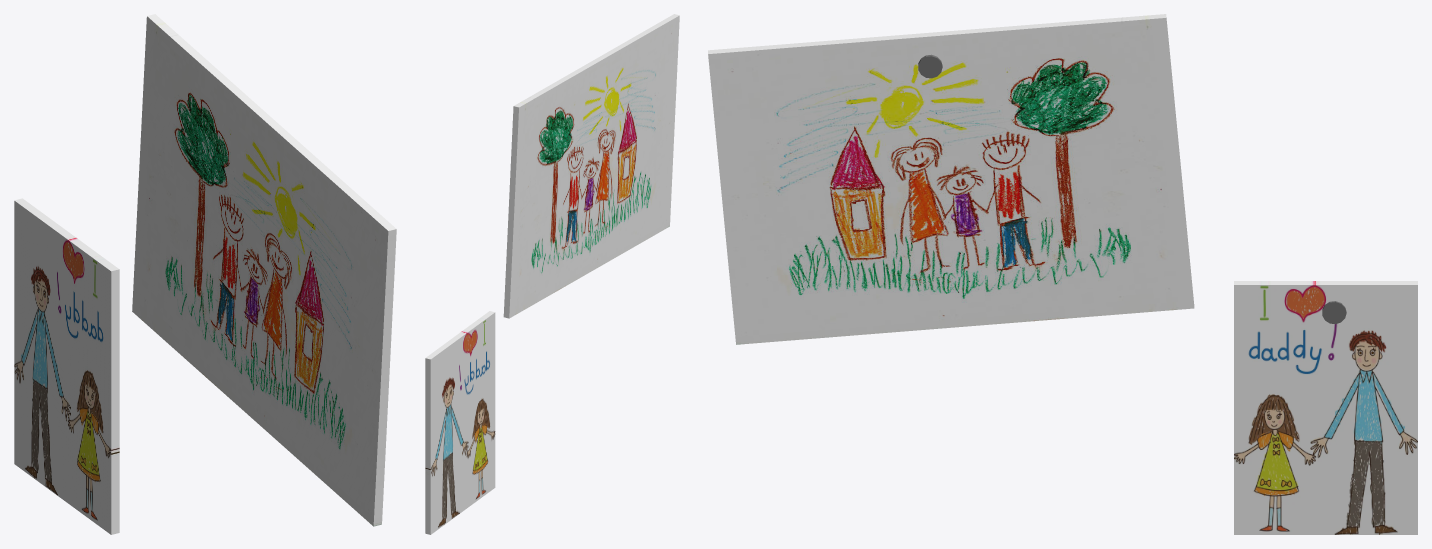
File: kid_drawings.fbx
3 renders of one model, left to right at view 1: azimuth 30°, elevation 25°; view 2: azimuth 150°, elevation 25°; view 3: azimuth 270°, elevation 25°, orthographic. The views are drawn at different scales.
Visible parts, largest first — view 1: istockphoto-475132819-612x612, depositphotos_22221859-stock-illustration-kids-drawing-fathe; view 2: istockphoto-475132819-612x612, depositphotos_22221859-stock-illustration-kids-drawing-fathe; view 3: istockphoto-475132819-612x612, depositphotos_22221859-stock-illustration-kids-drawing-fathe.
Boxes of the visible parts, left/top/right/bottom form: istockphoto-475132819-612x612: left=132, top=14, right=396, bottom=526; depositphotos_22221859-stock-illustration-kids-drawing-fathe: left=14, top=198, right=119, bottom=534; istockphoto-475132819-612x612: left=503, top=14, right=679, bottom=318; depositphotos_22221859-stock-illustration-kids-drawing-fathe: left=425, top=311, right=495, bottom=534; istockphoto-475132819-612x612: left=708, top=14, right=1194, bottom=344; depositphotos_22221859-stock-illustration-kids-drawing-fathe: left=1234, top=281, right=1417, bottom=534.
Bounding box in the file's own units: 1.4 × 62.04 × 77.18.
